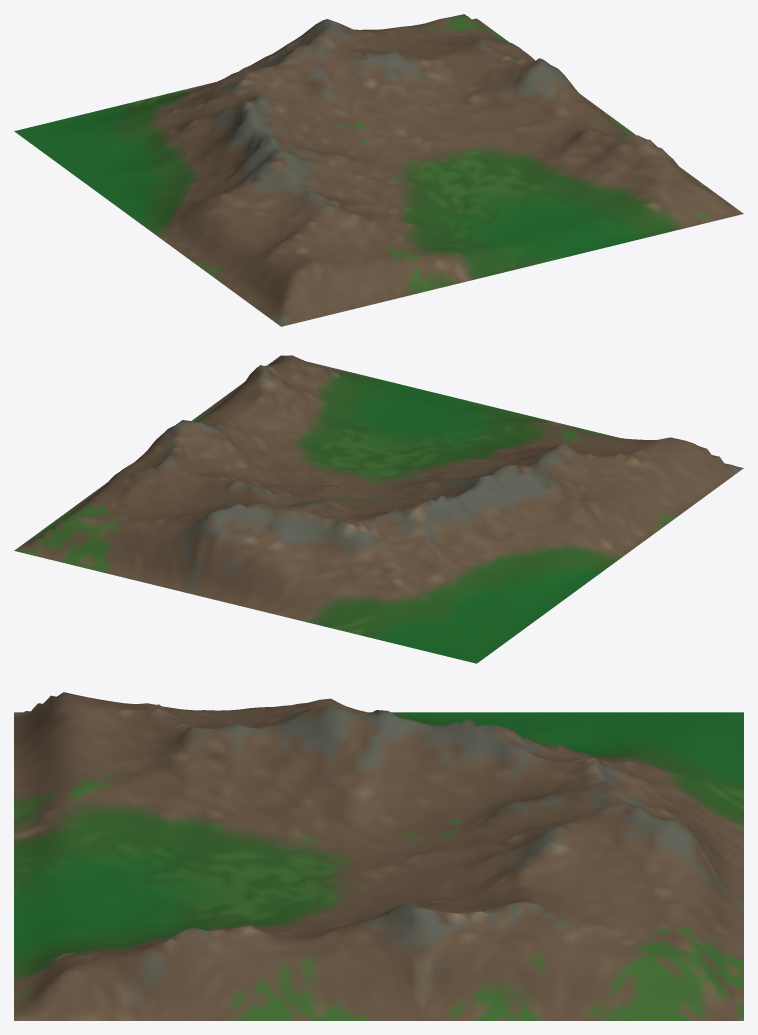
File: TEM_BG_Mountain_01.fbx
3 renders of one model, top to bottom at view 1: azimuth 30°, elevation 25°; view 2: azimuth 150°, elevation 25°; view 3: azimuth 270°, elevation 25°, orthographic. The views are drawn at different scales.
Visible parts, largest first — view 1: TEM_BG_Mountain_01; view 2: TEM_BG_Mountain_01; view 3: TEM_BG_Mountain_01.
Boxes of the visible parts, bbox=[...] form: TEM_BG_Mountain_01: bbox=[14, 14, 743, 326]; TEM_BG_Mountain_01: bbox=[14, 355, 743, 663]; TEM_BG_Mountain_01: bbox=[14, 692, 743, 1020].
Bounding box in the file's own units: 102000 × 13669 × 102000.
